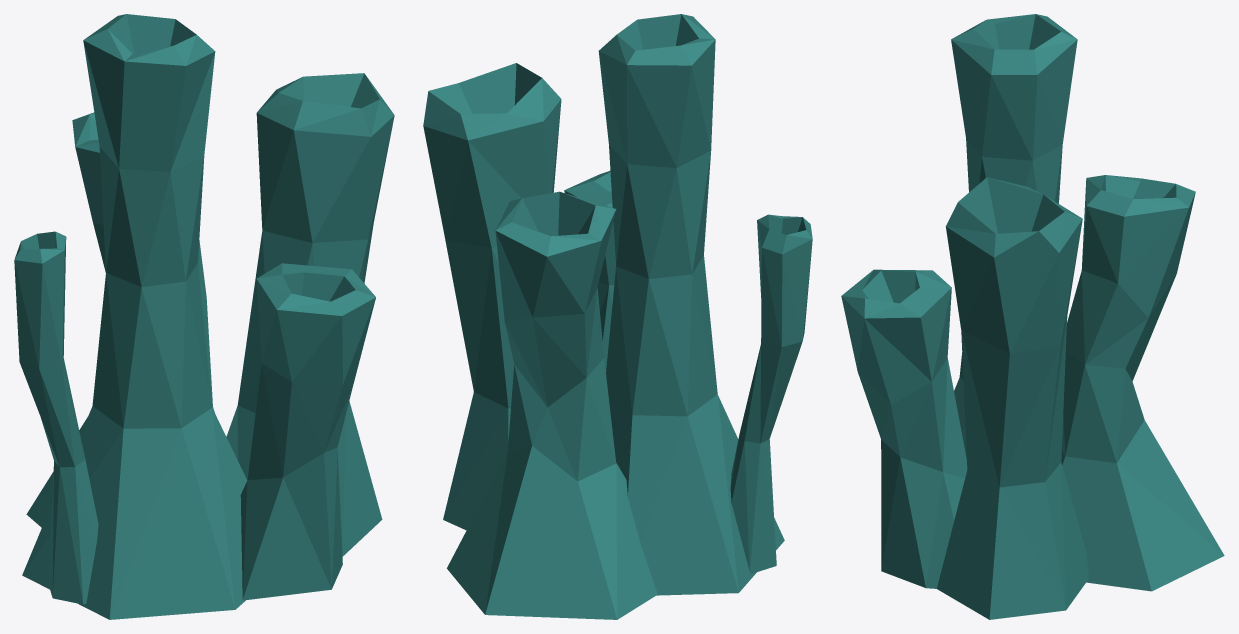
Rendered from SM_Coral_Sponge_Dead_A.fbx.
3 views of the same model, side by side, from view 1: azimuth 30°, elevation 25°; view 2: azimuth 150°, elevation 25°; view 3: azimuth 270°, elevation 25° (orthographic). The views are drawn at different scales.
Visible parts, largest first — view 1: coral-sponge-dead-a; view 2: coral-sponge-dead-a; view 3: coral-sponge-dead-a.
Boxes of the visible parts, x1=… form: coral-sponge-dead-a: x1=14, y1=14, x2=394, y2=619; coral-sponge-dead-a: x1=423, y1=14, x2=812, y2=619; coral-sponge-dead-a: x1=841, y1=14, x2=1224, y2=619.
Size of the model in its own units: 0.7102 by 0.9637 by 0.6721.
